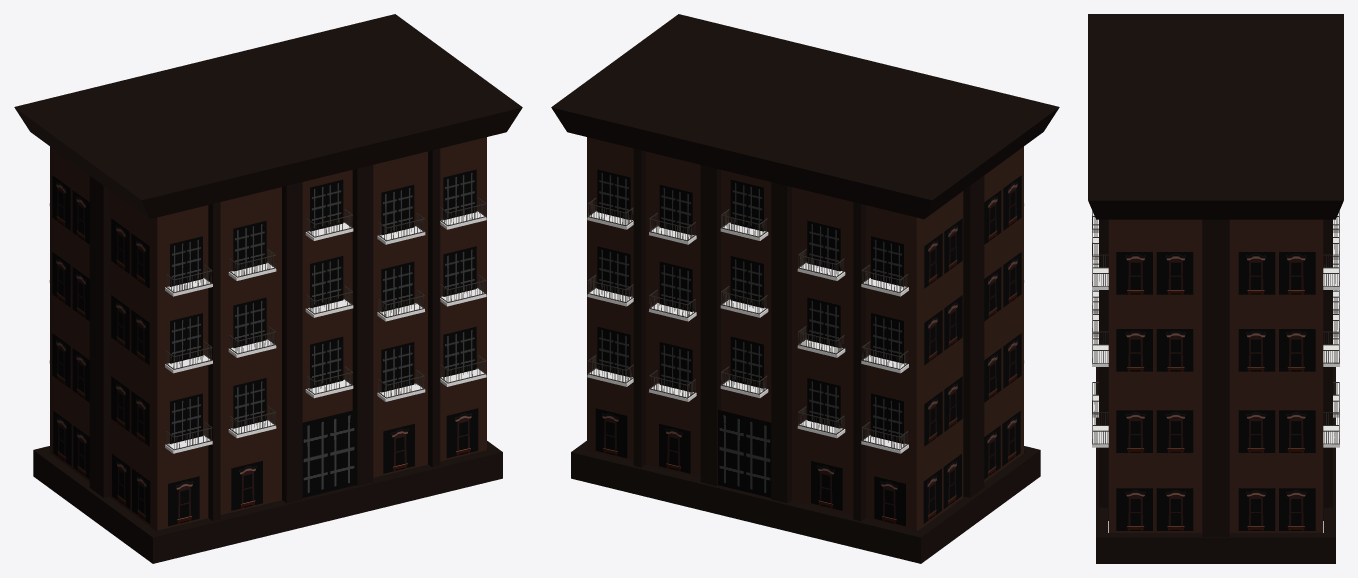
Rendered from Building(4).fbx.
3 renders of one model, left to right at view 1: azimuth 30°, elevation 25°; view 2: azimuth 150°, elevation 25°; view 3: azimuth 270°, elevation 25°, orthographic.
Visible parts, largest first — view 1: Building(5); view 2: Building(5); view 3: Building(5).
Part boxes in pixels (x1,y1,x2,y2): Building(5): (14, 14, 522, 563); Building(5): (551, 14, 1059, 563); Building(5): (1088, 14, 1343, 563).
Bounding box in the file's own units: 28.98 × 26.89 × 16.8.
